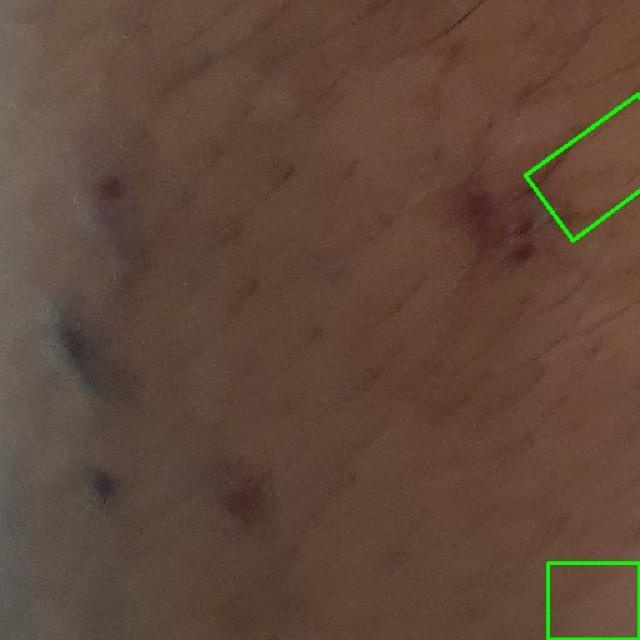Contact Dermatitis: (525, 94, 640, 241), (548, 562, 639, 639)
